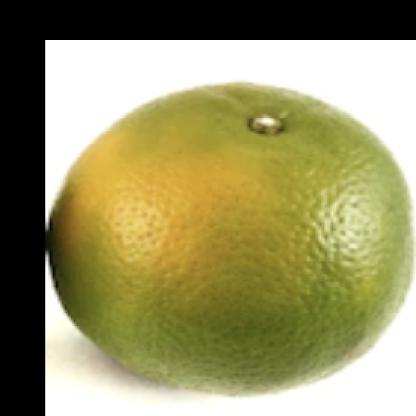fresh: (43, 81, 415, 401)
